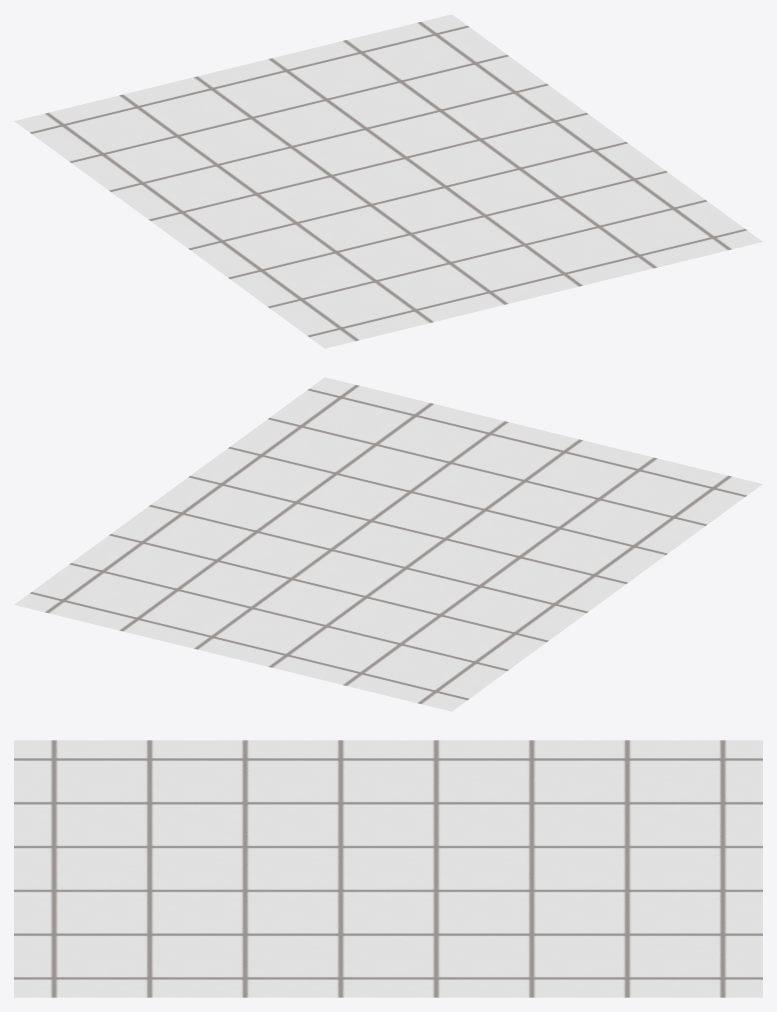
The model's file is s2f_mktab.FBX.
The picture shows the model from 3 angles, top to bottom: view 1: azimuth 30°, elevation 25°; view 2: azimuth 150°, elevation 25°; view 3: azimuth 270°, elevation 25°; orthographic projection. The views are drawn at different scales.
Parts seen in each view (by area): view 1: Plane001; view 2: Plane001; view 3: Plane001.
Part boxes in pixels (<box>): Plane001: <box>14,14,762,348</box>; Plane001: <box>14,377,762,711</box>; Plane001: <box>14,740,762,997</box>.
Size of the model in its own units: 334 by 2.51e-14 by 411.
Materials: 1 (1 with a texture image).
